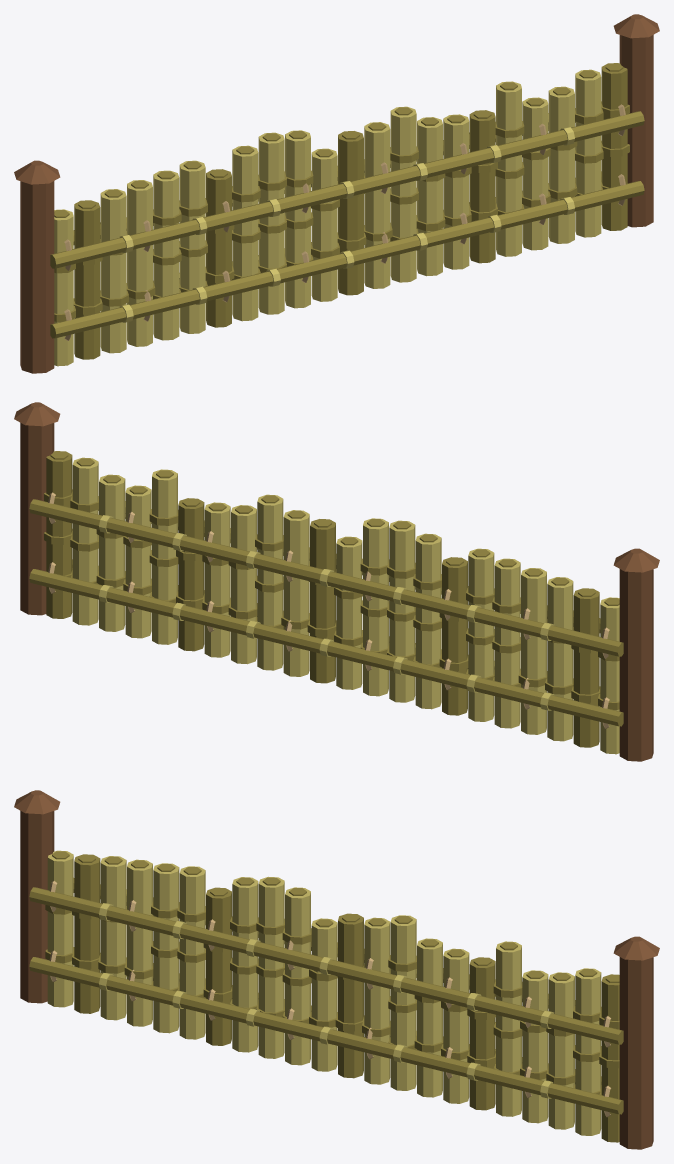
The model's file is BambooFence.fbx.
The picture shows the model from 3 angles, top to bottom: view 1: azimuth 30°, elevation 25°; view 2: azimuth 150°, elevation 25°; view 3: azimuth 330°, elevation 25°; orthographic projection.
Parts seen in each view (by area): view 1: BambooFence_Bamboo, BambooFence_BambooDark, BambooFence_WoodDark, BambooFence_Rope; view 2: BambooFence_Bamboo, BambooFence_BambooDark, BambooFence_WoodDark, BambooFence_Rope; view 3: BambooFence_Bamboo, BambooFence_BambooDark, BambooFence_WoodDark, BambooFence_Rope.
Boxes of the visible parts, x1,y1,x2,y2 form: BambooFence_Bamboo: (54, 69, 601, 366); BambooFence_BambooDark: (50, 63, 644, 359); BambooFence_WoodDark: (14, 14, 659, 373); BambooFence_Rope: (64, 104, 625, 340); BambooFence_Bamboo: (72, 457, 619, 754); BambooFence_BambooDark: (29, 451, 623, 747); BambooFence_WoodDark: (14, 402, 659, 761); BambooFence_Rope: (48, 492, 609, 728); BambooFence_Bamboo: (47, 850, 601, 1135); BambooFence_BambooDark: (29, 851, 623, 1142); BambooFence_WoodDark: (14, 790, 659, 1149); BambooFence_Rope: (49, 881, 610, 1117).
Size of the model in its own units: 23.1 by 7 by 1.77.
